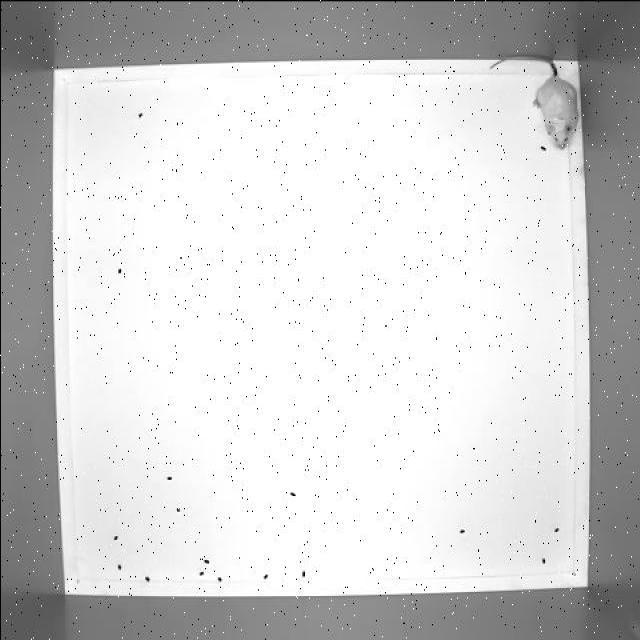rat: (490, 58, 578, 149)
